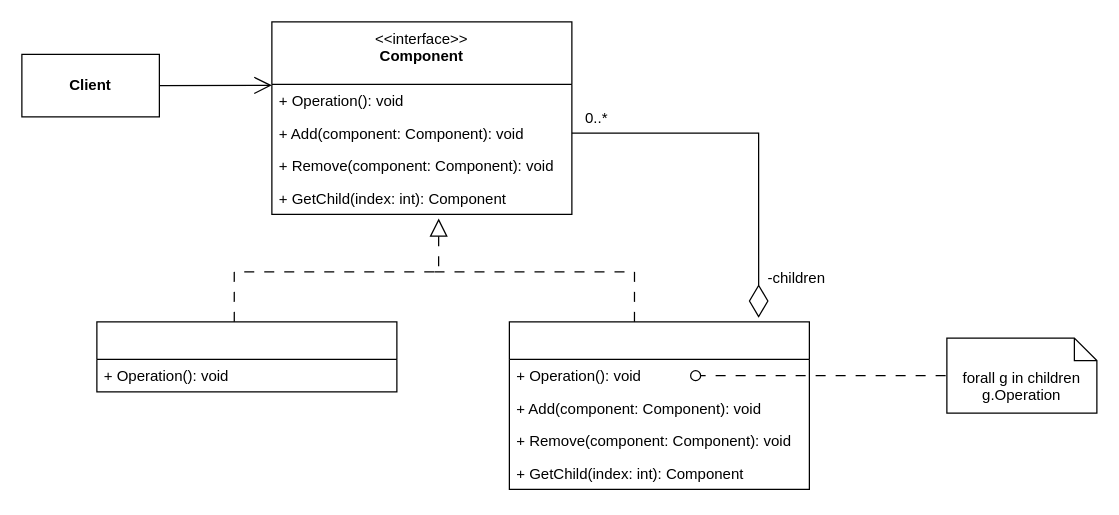
Some shapes in this 1119 by 515 pixel diagram are drawn without their labels. The shapes that lost their labels are listed below. From the top down, each one's box as (x1, y1, x2, y2) in pixels, then its label:
(96, 321, 397, 392): Leaf
(508, 321, 809, 489): Composite
